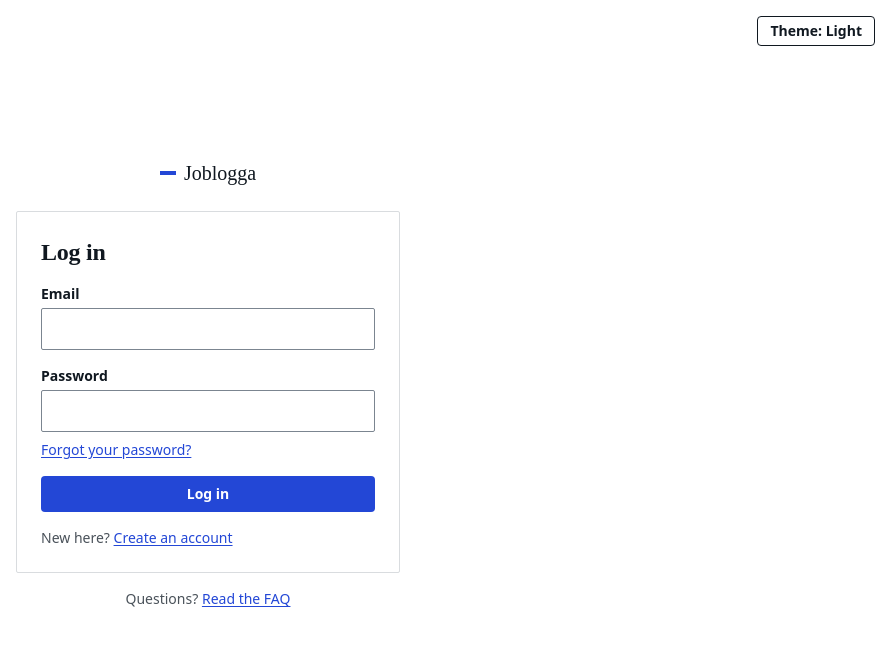
Test: login › shows the server error and stays on the page for wrong credentials
Type "me@example.com" into the field labelled "Email" at {"x": 208, "y": 329}, box left=41, top=308, right=375, bottom=350
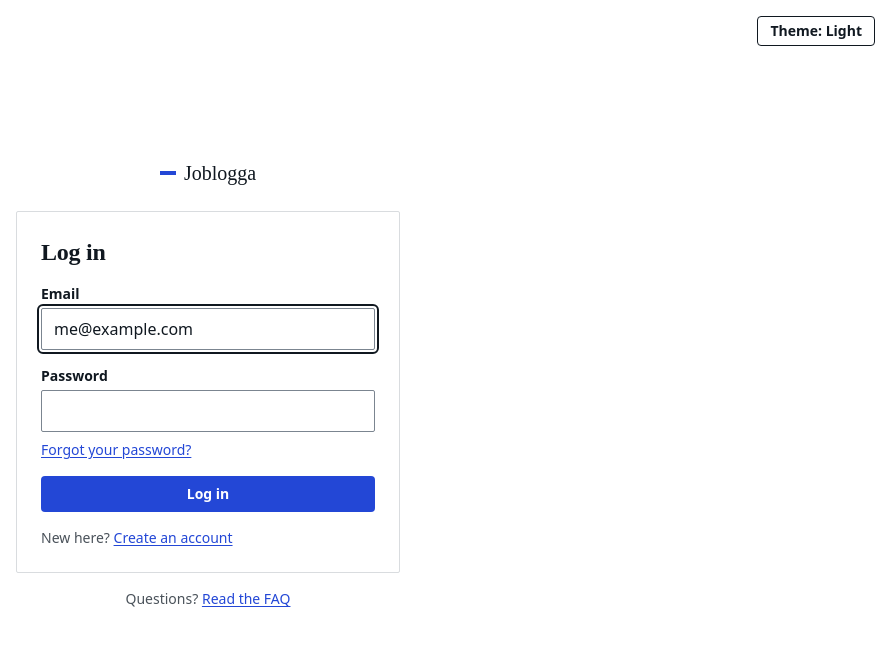
Type "correct-horse-battery" into the password field labelled "Password" at {"x": 208, "y": 411}, box left=41, top=390, right=375, bottom=432
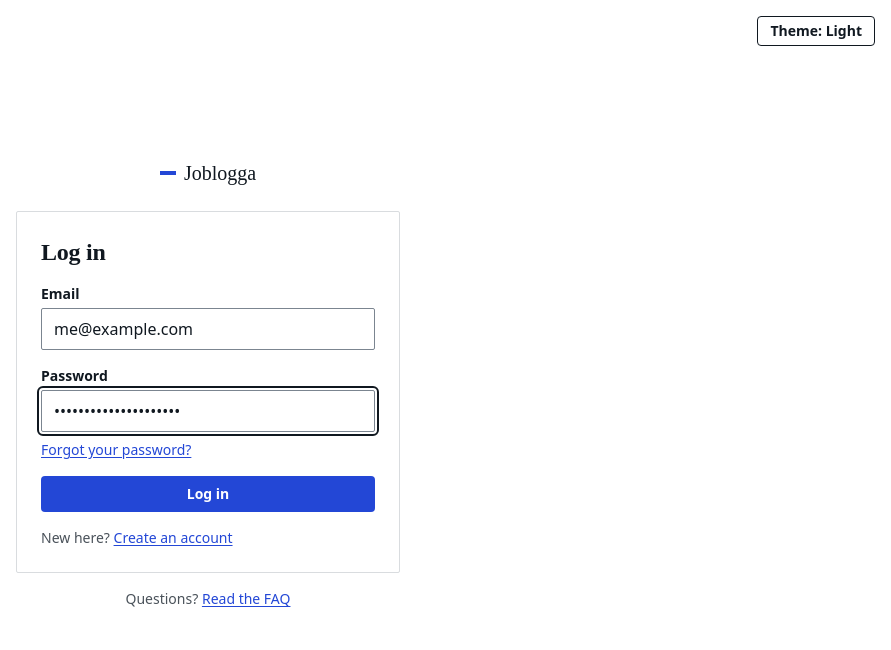
Click the button "Log in" at {"x": 208, "y": 494}, box left=41, top=476, right=375, bottom=512
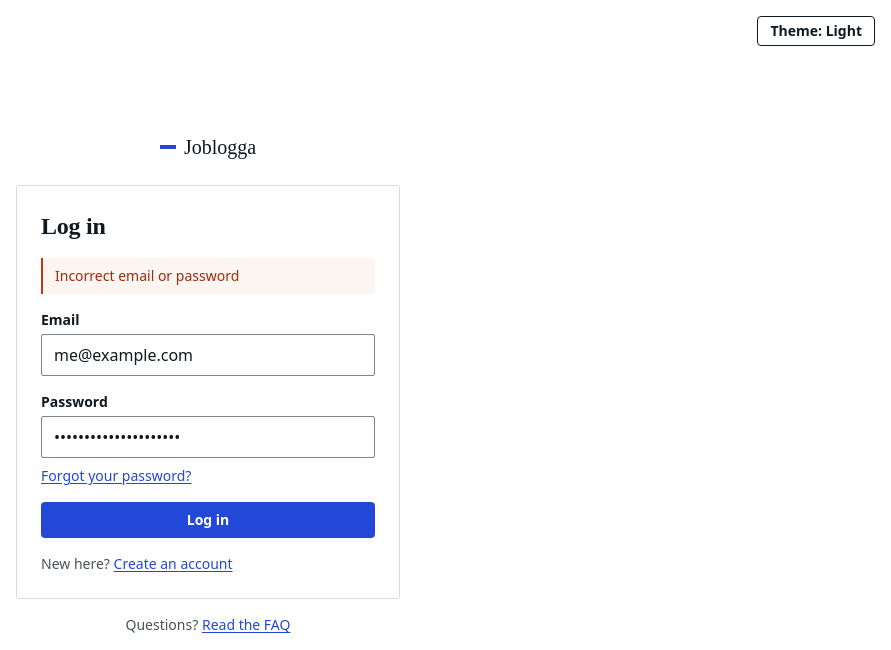
Expected: the heading "Log in" is shown, left=41, top=213, right=106, bottom=239
Expected: the message reads "Incorrect email or password", left=55, top=266, right=239, bottom=285
